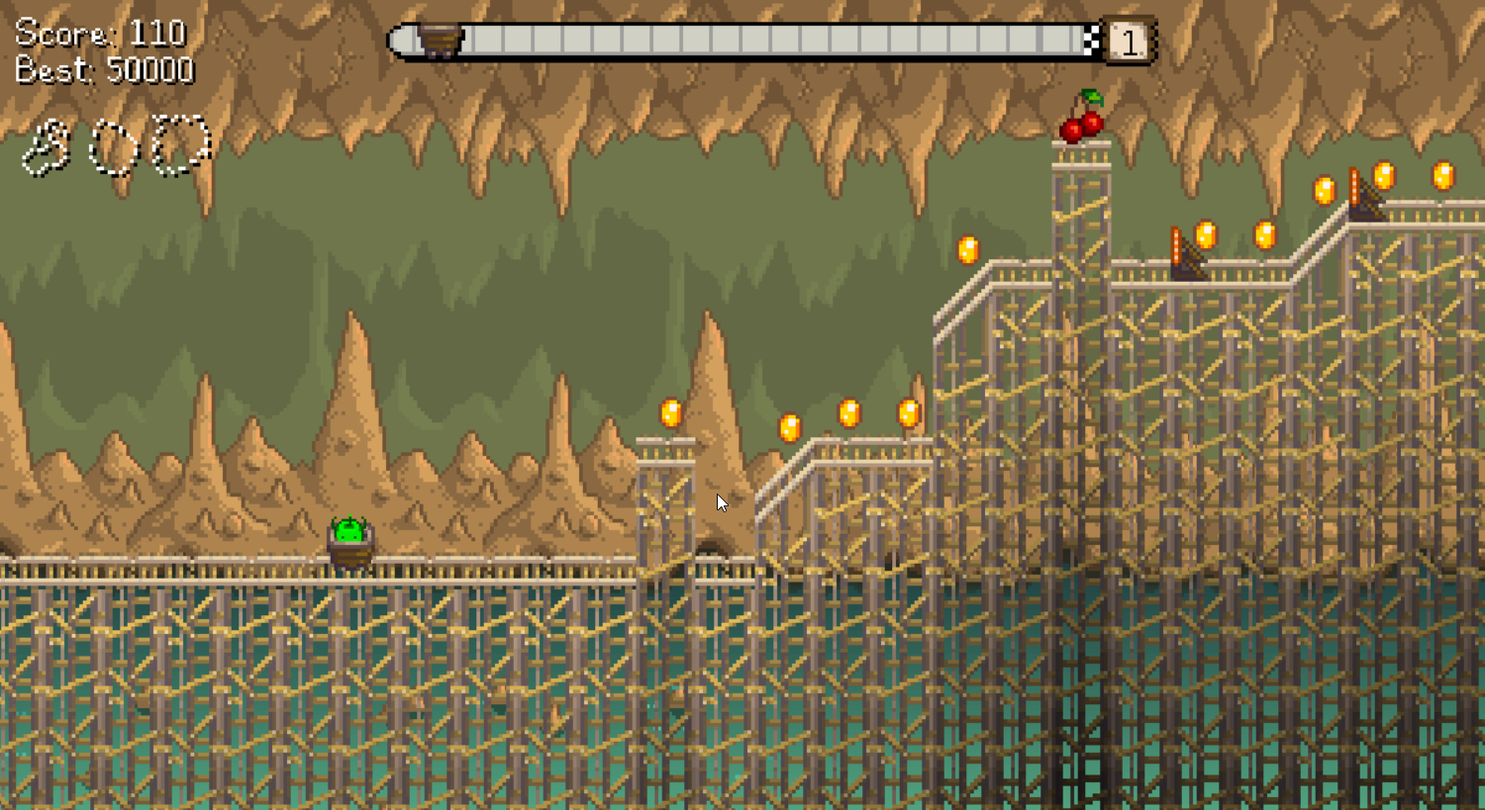barricade: (1169, 227, 1207, 280), (1348, 168, 1386, 221)
cherry: (1058, 84, 1109, 143)
coins: (1194, 220, 1218, 250), (1312, 175, 1336, 205), (957, 234, 980, 265), (659, 398, 682, 428), (1373, 160, 1396, 190), (779, 412, 801, 442), (898, 398, 920, 427), (1434, 160, 1454, 191), (839, 399, 860, 428), (1255, 221, 1274, 248)
minecart: (327, 515, 375, 569)
tracks: (1099, 187, 1484, 302), (0, 543, 640, 586), (749, 431, 933, 530), (932, 256, 1058, 354), (691, 544, 759, 586), (632, 429, 699, 471), (1053, 135, 1115, 173)
